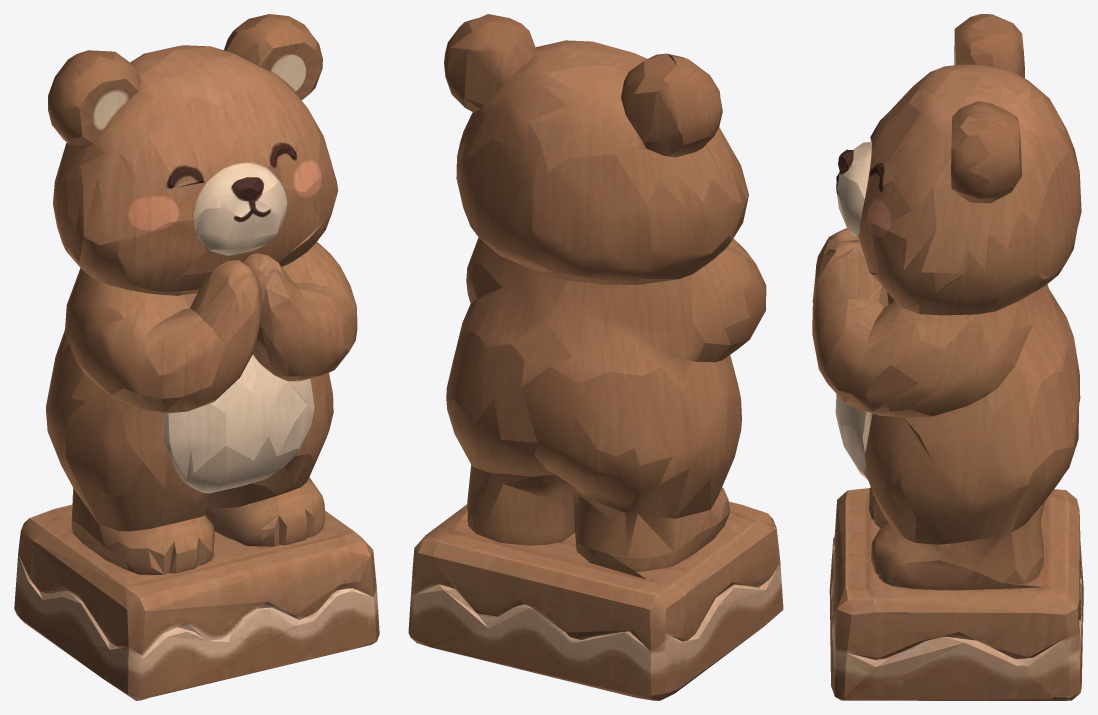
File: deco-statue-bear.glb
The picture shows the model from 3 angles, left to right: view 1: azimuth 30°, elevation 25°; view 2: azimuth 150°, elevation 25°; view 3: azimuth 270°, elevation 25°; orthographic projection. The views are drawn at different scales.
Visible parts, largest first — view 1: deco-statue-bear-fit; view 2: deco-statue-bear-fit; view 3: deco-statue-bear-fit.
Boxes of the visible parts, bbox=[...] form: deco-statue-bear-fit: bbox=[14, 14, 379, 700]; deco-statue-bear-fit: bbox=[408, 14, 783, 700]; deco-statue-bear-fit: bbox=[812, 14, 1083, 700].
Size of the model in its own units: 0.6536 by 1.4 by 0.5896.
Materials: 1 (1 with a texture image).
